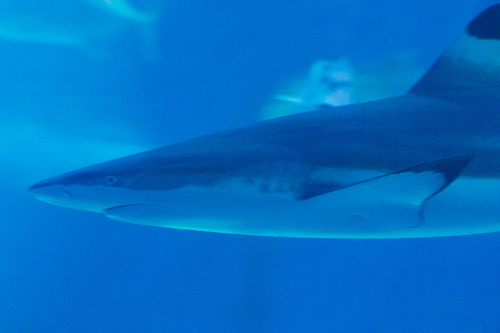shark: (17, 15, 499, 254)
